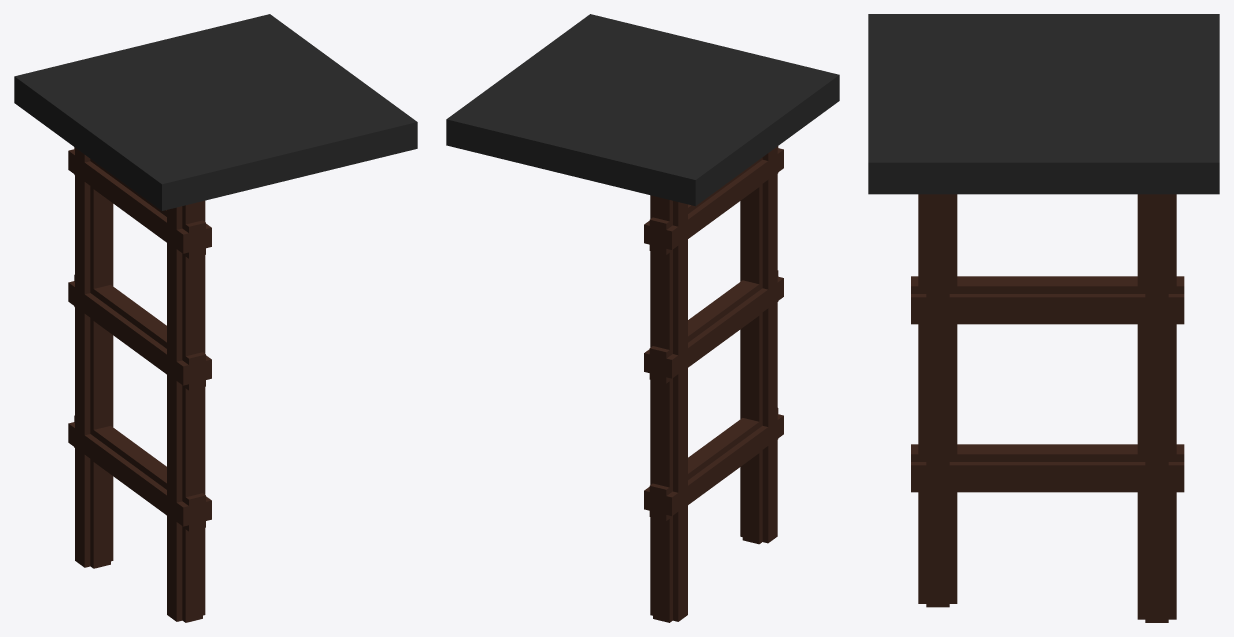
Rendered from ropeLadder.glb.
The picture shows the model from 3 angles, left to right: view 1: azimuth 30°, elevation 25°; view 2: azimuth 150°, elevation 25°; view 3: azimuth 270°, elevation 25°; orthographic projection. The views are drawn at different scales.
Parts seen in each view (by area): view 1: Cube, Cylinder.001, Cylinder, Cylinder.003, Cylinder.004, Cylinder.002; view 2: Cube, Cylinder, Cylinder.001, Cylinder.004, Cylinder.003, Cylinder.002; view 3: Cube, Cylinder, Cylinder.001, Cylinder.003, Cylinder.004.
Part boxes in pixels (left/top/right/bottom): Cube: left=14, top=14, right=417, bottom=210; Cylinder.001: left=167, top=200, right=205, bottom=622; Cylinder: left=75, top=147, right=113, bottom=568; Cylinder.003: left=68, top=274, right=211, bottom=390; Cylinder.004: left=68, top=415, right=211, bottom=531; Cylinder.002: left=68, top=147, right=211, bottom=258; Cube: left=446, top=14, right=839, bottom=206; Cylinder: left=650, top=195, right=687, bottom=622; Cylinder.001: left=740, top=146, right=777, bottom=544; Cylinder.004: left=644, top=408, right=783, bottom=520; Cylinder.003: left=644, top=270, right=783, bottom=383; Cylinder.002: left=644, top=146, right=783, bottom=254; Cube: left=868, top=14, right=1219, bottom=194; Cylinder: left=1137, top=194, right=1176, bottom=622; Cylinder.001: left=918, top=194, right=957, bottom=607; Cylinder.003: left=911, top=276, right=1184, bottom=324; Cylinder.004: left=911, top=444, right=1184, bottom=492.
Size of the model in its own units: 0.4971 by 0.8889 by 0.4971.
